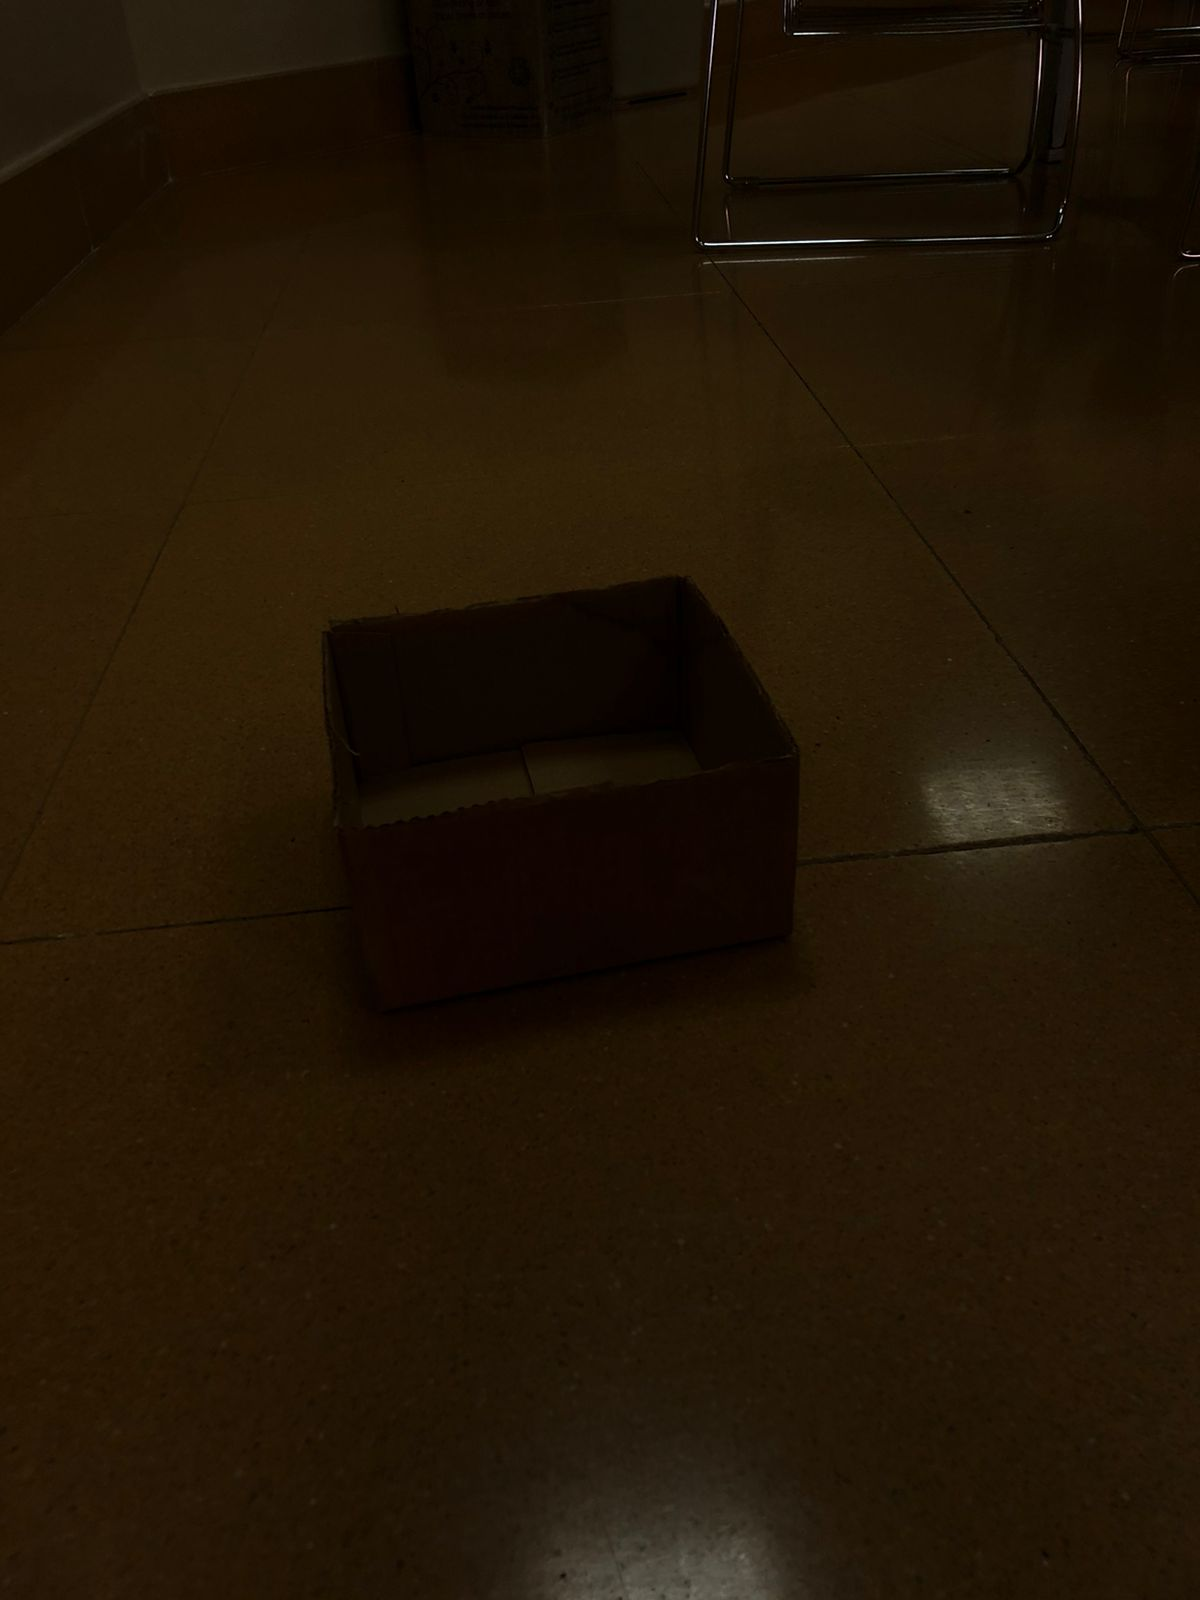CBox: (316, 572, 809, 1024)
